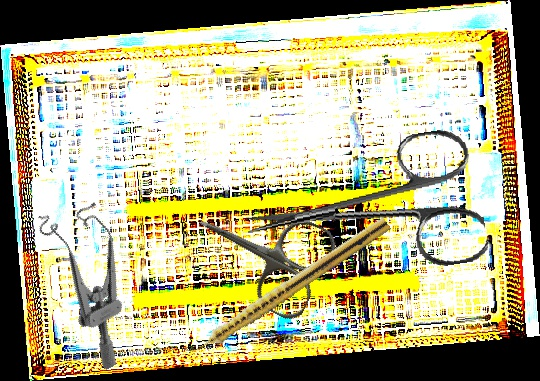Handpiece: (182, 212, 392, 363)
Iris Scissors: (236, 125, 491, 296), (178, 177, 342, 325)
Speculum: (24, 189, 169, 371)
